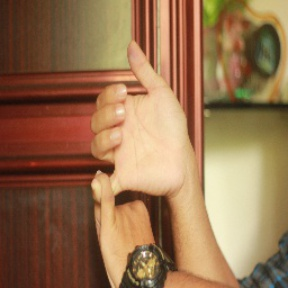S: (82, 40, 192, 279)
